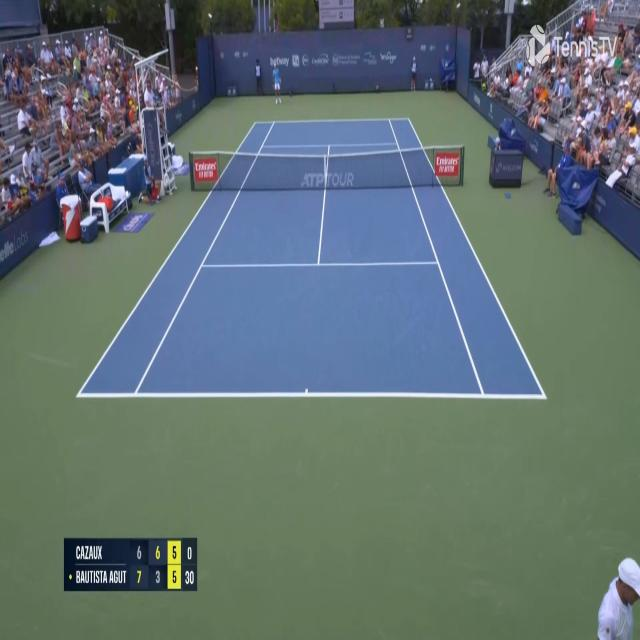tennis-player: (591, 552, 640, 639), (272, 59, 283, 106)
